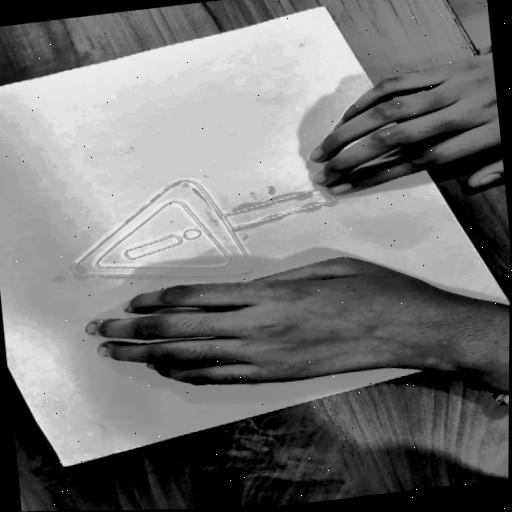bottom_left: (312, 0, 330, 11)
signboard: (34, 130, 375, 329)
top_right: (52, 461, 77, 473)
